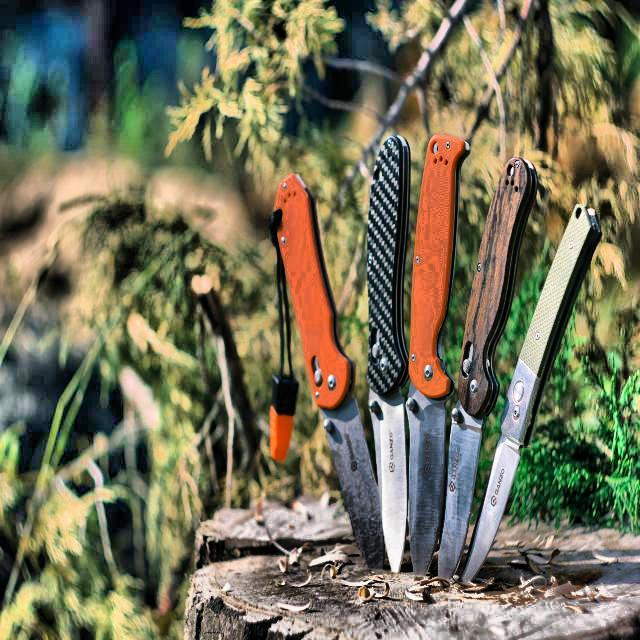knife: (458, 198, 608, 585), (427, 155, 542, 592), (272, 162, 391, 584), (404, 131, 472, 591), (370, 126, 416, 578)
